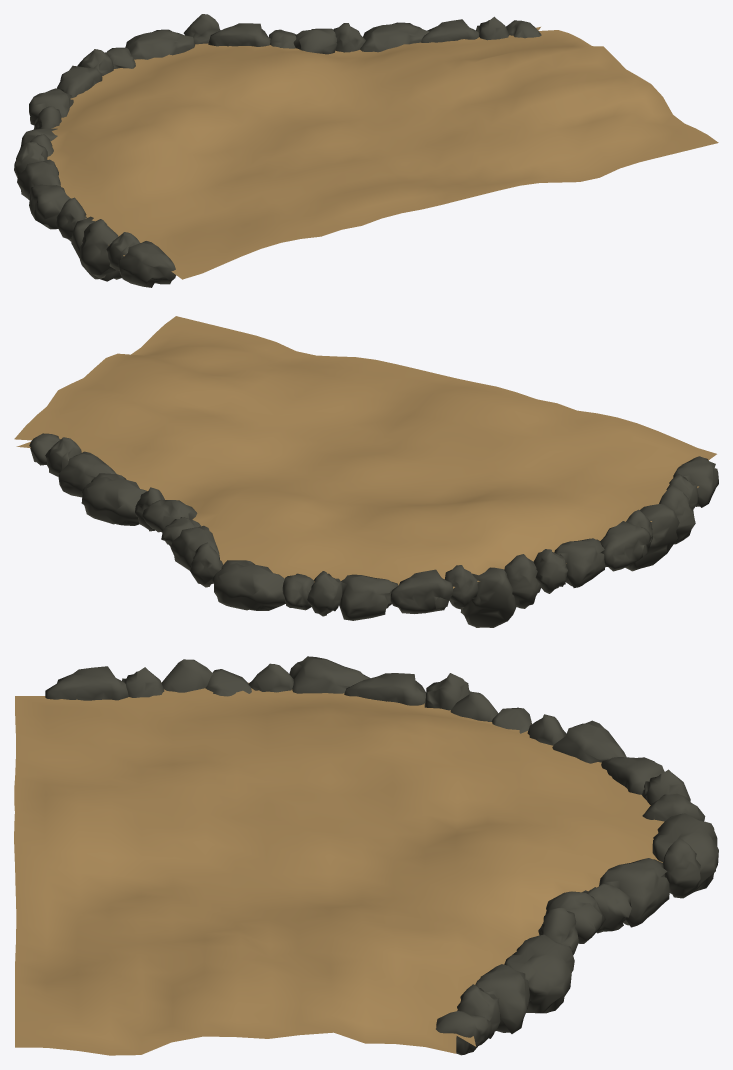
The model's file is medium_ground_04.fbx.
3 renders of one model, top to bottom at view 1: azimuth 30°, elevation 25°; view 2: azimuth 150°, elevation 25°; view 3: azimuth 270°, elevation 25°, orthographic. The views are drawn at different scales.
Visible parts, largest first — view 1: polySurface_medium_ground_04; view 2: polySurface_medium_ground_04; view 3: polySurface_medium_ground_04.
Part boxes in pixels (x1=…): polySurface_medium_ground_04: x1=14, y1=14, x2=718, y2=287; polySurface_medium_ground_04: x1=14, y1=316, x2=718, y2=627; polySurface_medium_ground_04: x1=14, y1=656, x2=718, y2=1055.
Size of the model in its own units: 179 by 24.17 by 138.
